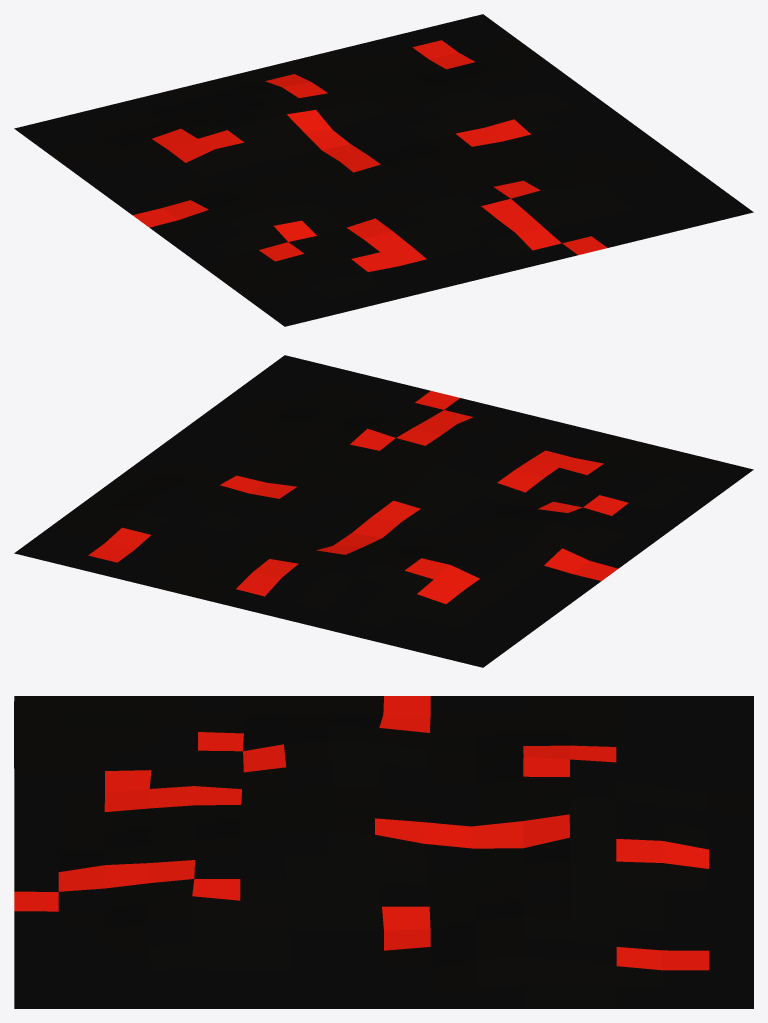
Rendered from Hot5.FBX.
3 renders of one model, top to bottom at view 1: azimuth 30°, elevation 25°; view 2: azimuth 150°, elevation 25°; view 3: azimuth 270°, elevation 25°, orthographic. The views are drawn at different scales.
Parts seen in each view (by area): view 1: Terrain.004; view 2: Terrain.004; view 3: Terrain.004.
Part boxes in pixels (<box>): Terrain.004: <box>14,14,753,326</box>; Terrain.004: <box>14,355,753,667</box>; Terrain.004: <box>14,696,753,1008</box>.
Size of the model in its own units: 800 by 800 by 23.83.
